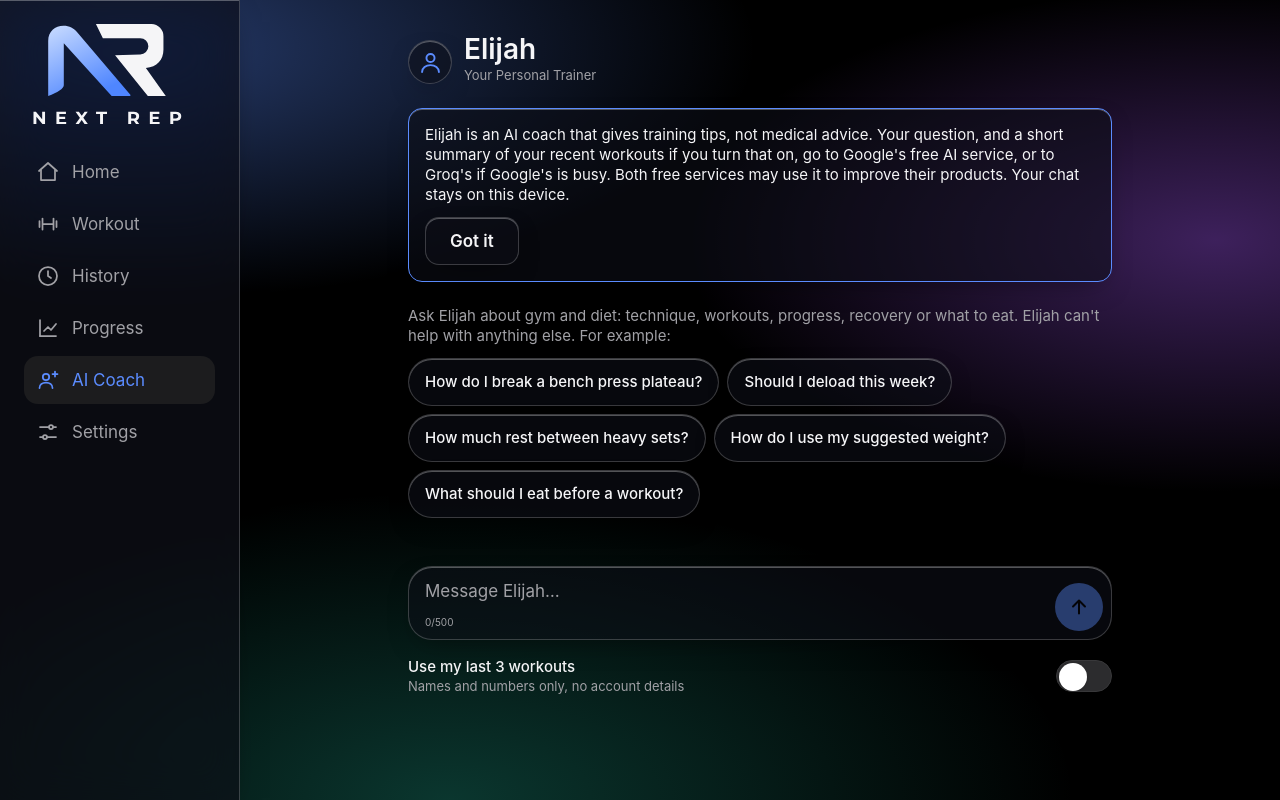
the Coach screen › says so when the coach is offline, keeps nothing, and gives the question back
Type "My question" into the text box with placeholder "Message Elijah…" at (760, 603), box [409, 567, 1111, 639]
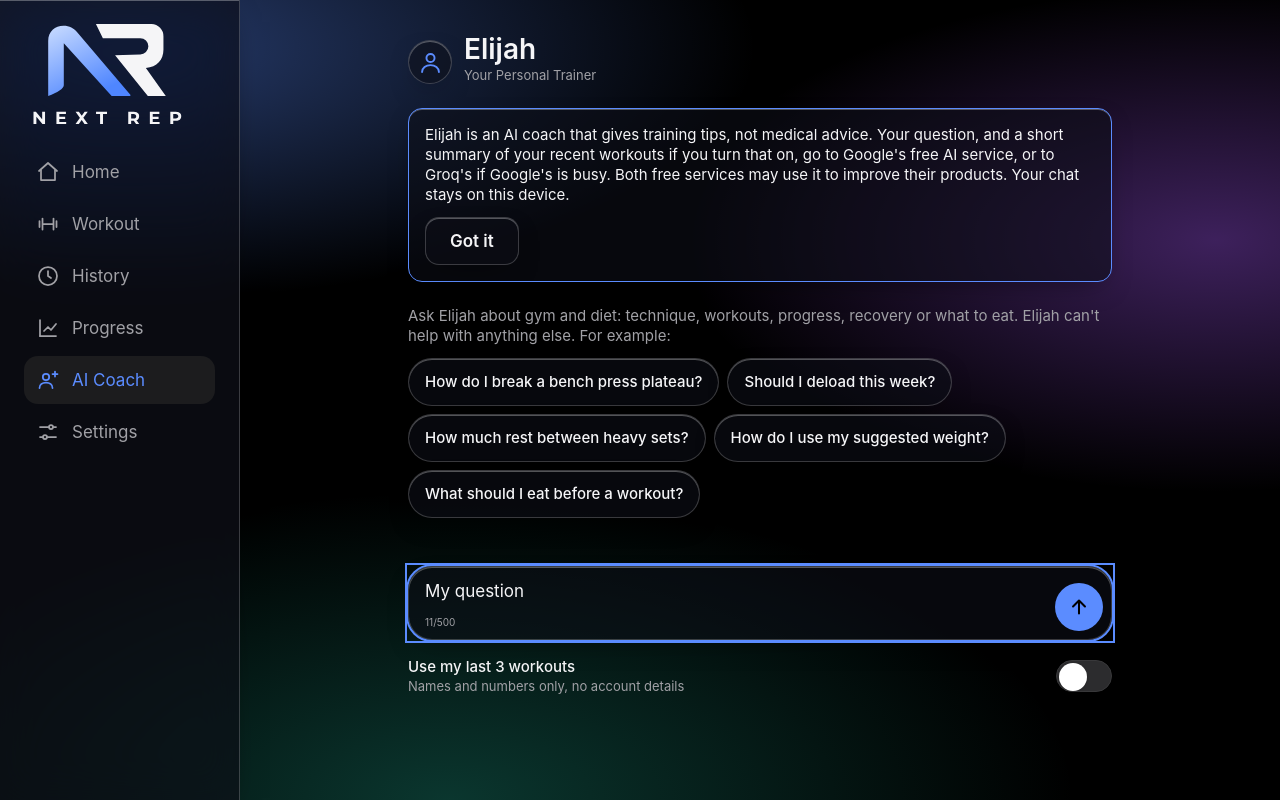
Click the button named "Send" at (1079, 607), box [1055, 583, 1103, 631]
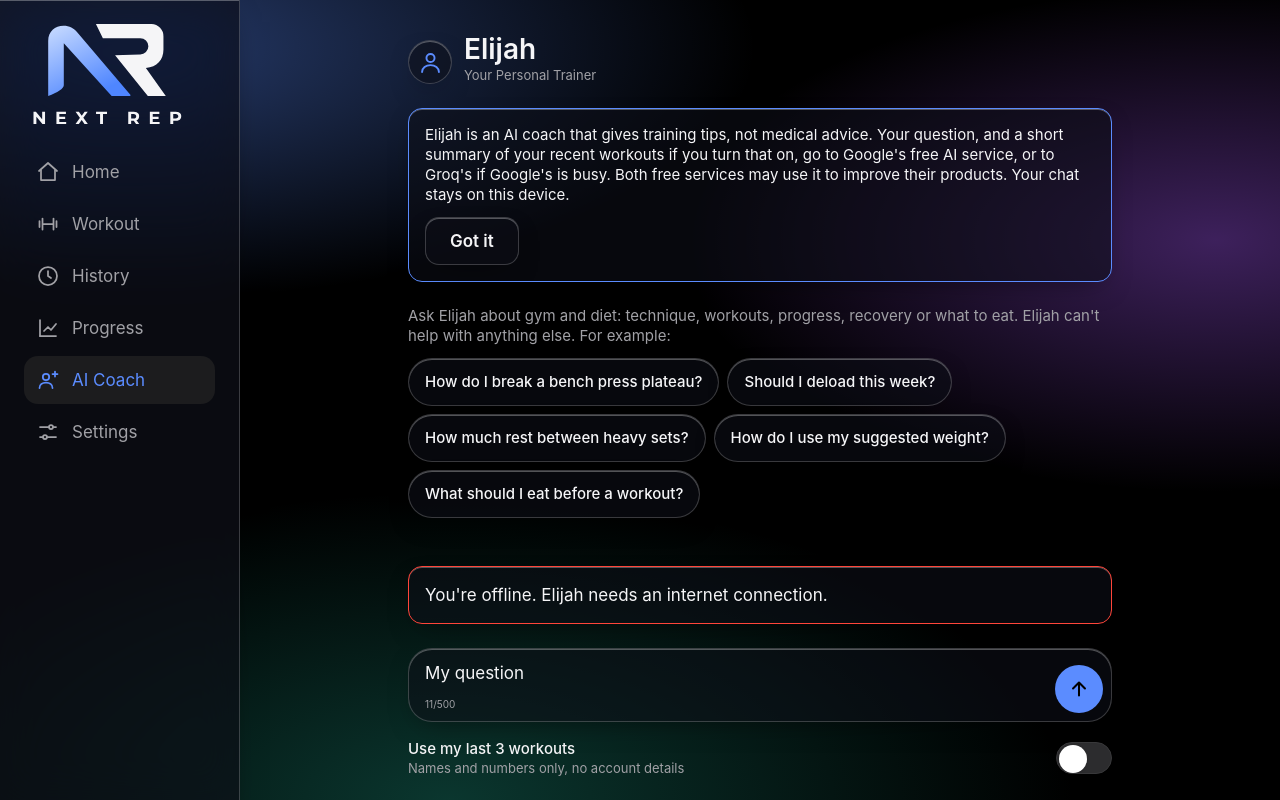
Expected: the message shows "You're offline", [425, 585, 828, 605]
